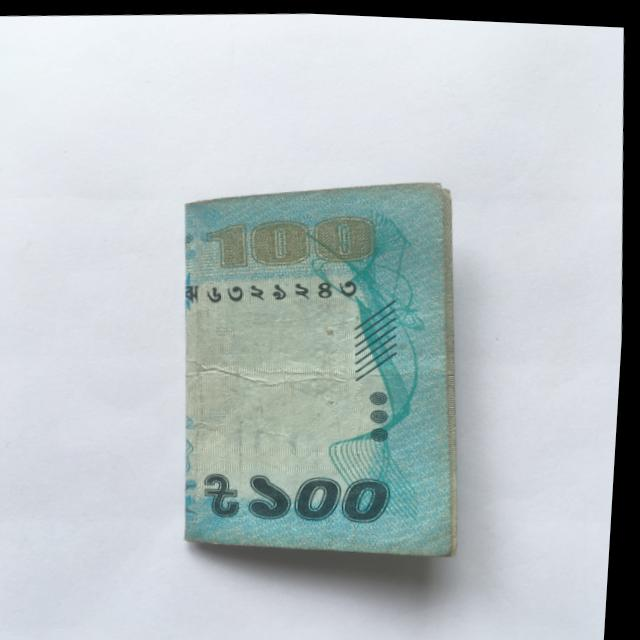Taka: (158, 164, 495, 566)
